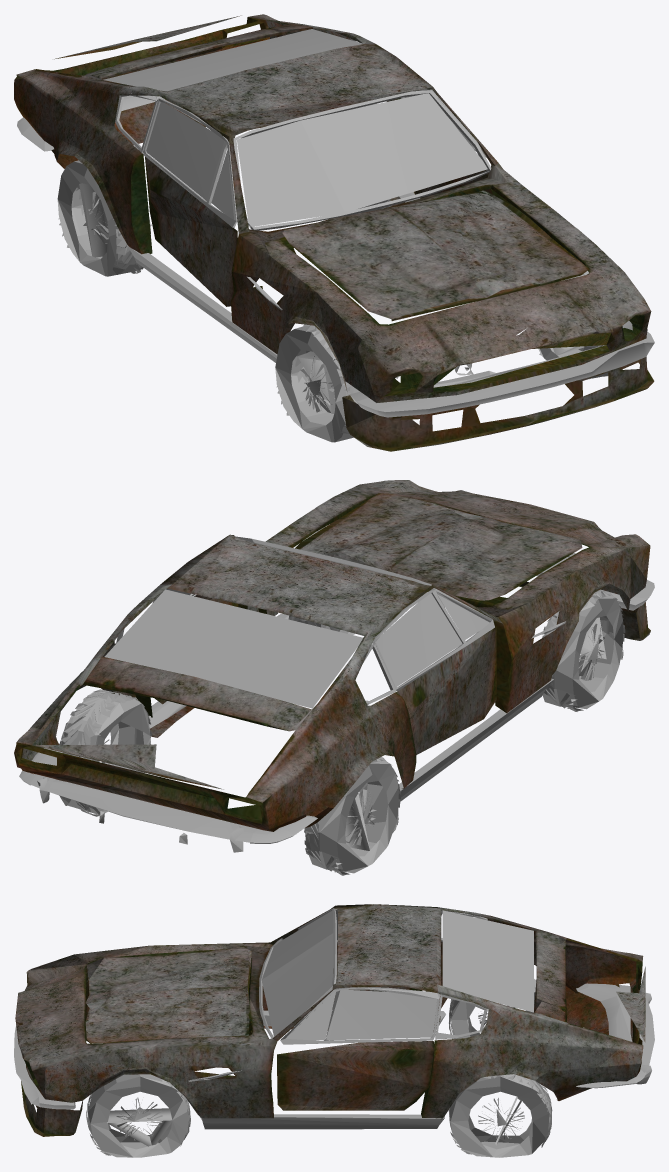
Rendered from Discarded car.fbx.
3 views of the same model, one above another, from view 1: azimuth 30°, elevation 25°; view 2: azimuth 150°, elevation 25°; view 3: azimuth 270°, elevation 25° (orthographic). The views are drawn at different scales.
Parts seen in each view (by area): view 1: Body, glass, tire rubber, Secondary Details.003, Frame, FLR.004; view 2: Body, glass, tire rubber, Secondary Details.003, Frame, FLR.004; view 3: Body, glass, tire rubber, Secondary Details.003, Frame, FLR.004.
Boxes of the visible parts, x1,y1,x2,y2 form: Body: (14, 14, 654, 451); glass: (103, 29, 487, 227); tire rubber: (57, 103, 623, 442); Secondary Details.003: (17, 95, 654, 417); Frame: (115, 38, 491, 230); FLR.004: (79, 183, 584, 413); Body: (14, 480, 650, 831); glass: (104, 548, 489, 708); tire rubber: (59, 526, 625, 875); Secondary Details.003: (19, 553, 654, 852); Frame: (116, 536, 494, 704); FLR.004: (98, 617, 606, 850); Body: (15, 904, 645, 1136); glass: (262, 910, 533, 1040); tire rubber: (86, 979, 552, 1157); Secondary Details.003: (14, 983, 654, 1129); Frame: (259, 908, 487, 1044); FLR.004: (107, 1003, 524, 1146).
Size of the model in its own units: 2.24 by 1.41 by 5.18.
Materials: 2 (1 with a texture image).
